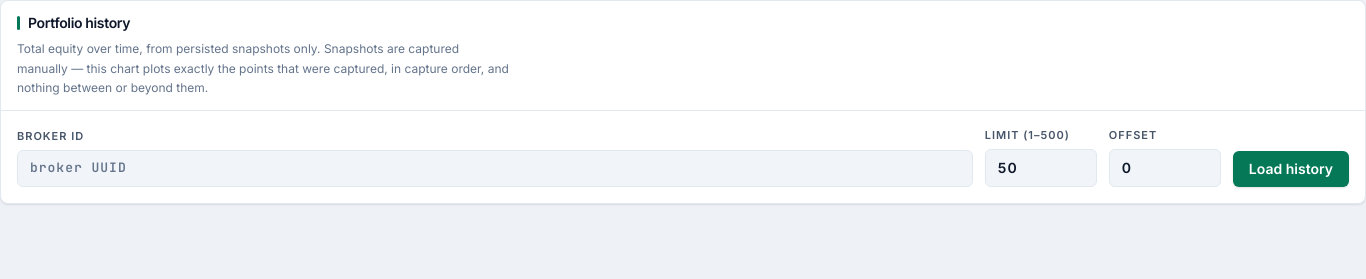
Test: PortfolioHistoryChart › renders a real 403 for a caller without the portfolio permission or grant
Type "b-1" into the field labelled "Broker ID" at (495, 169), box left=17, top=150, right=973, bottom=187
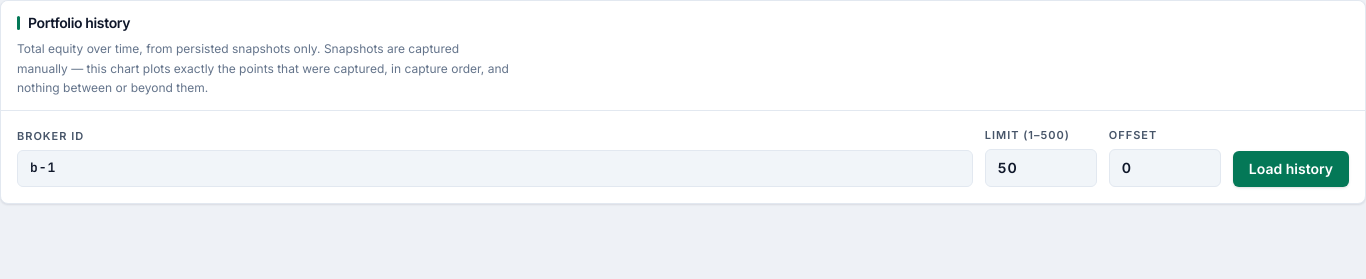
Click the button "Load history" at (1291, 169), box left=1233, top=151, right=1349, bottom=187
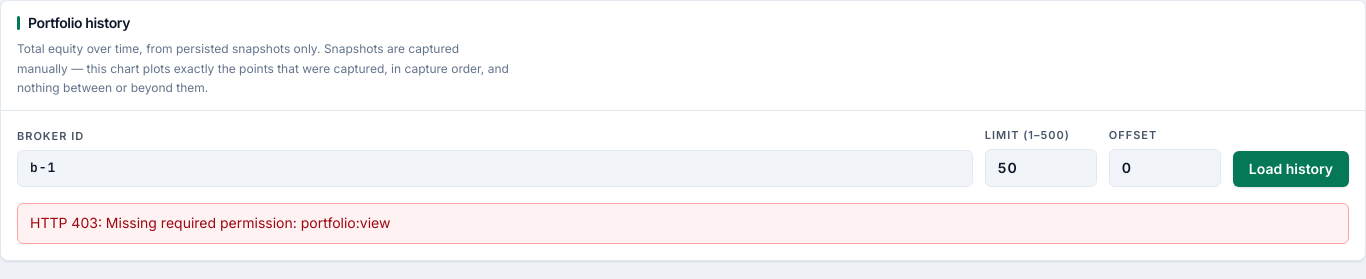
Check: the text "HTTP 403: Missing required permission: portfolio:view" is shown, box left=17, top=203, right=1349, bottom=244
